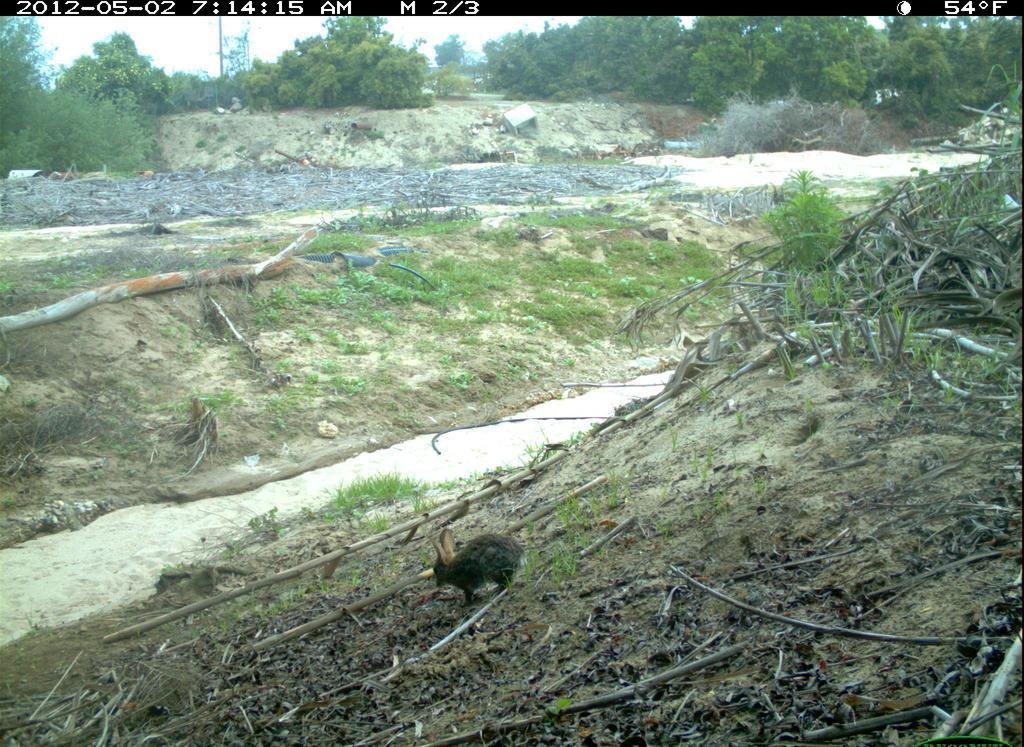rabbit: (428, 519, 523, 614)
